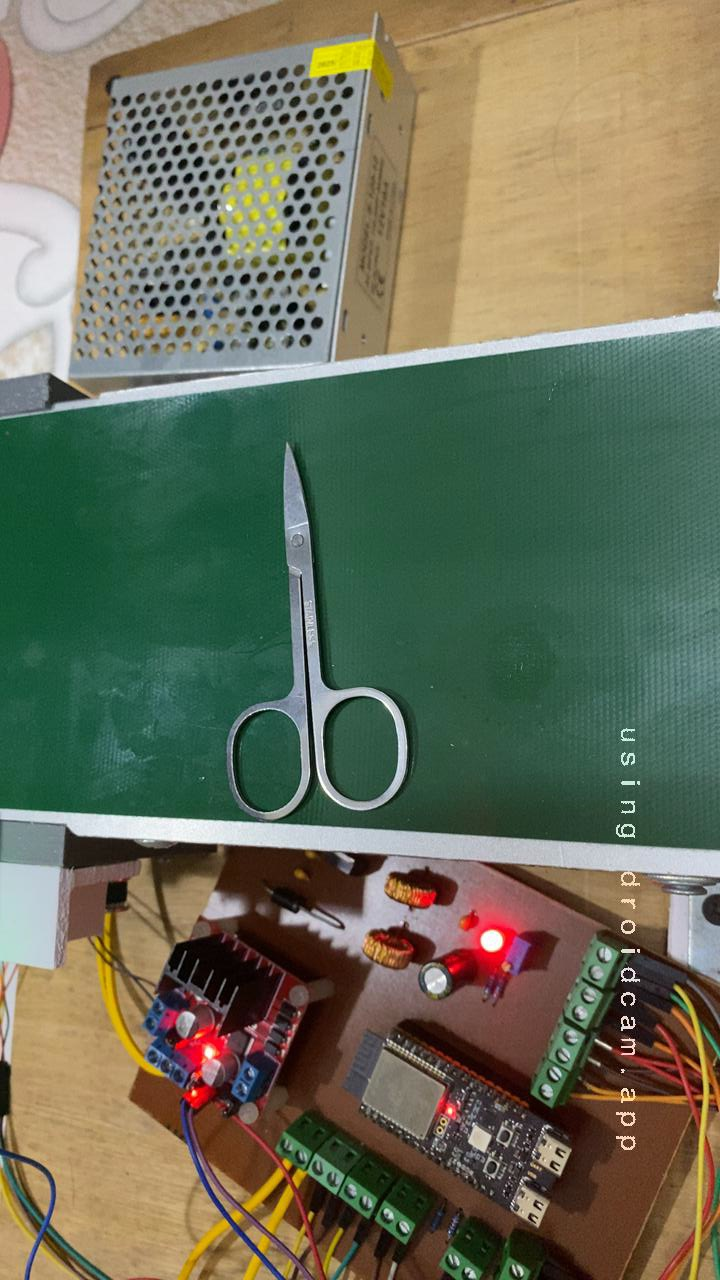scissor: (185, 418, 430, 830)
